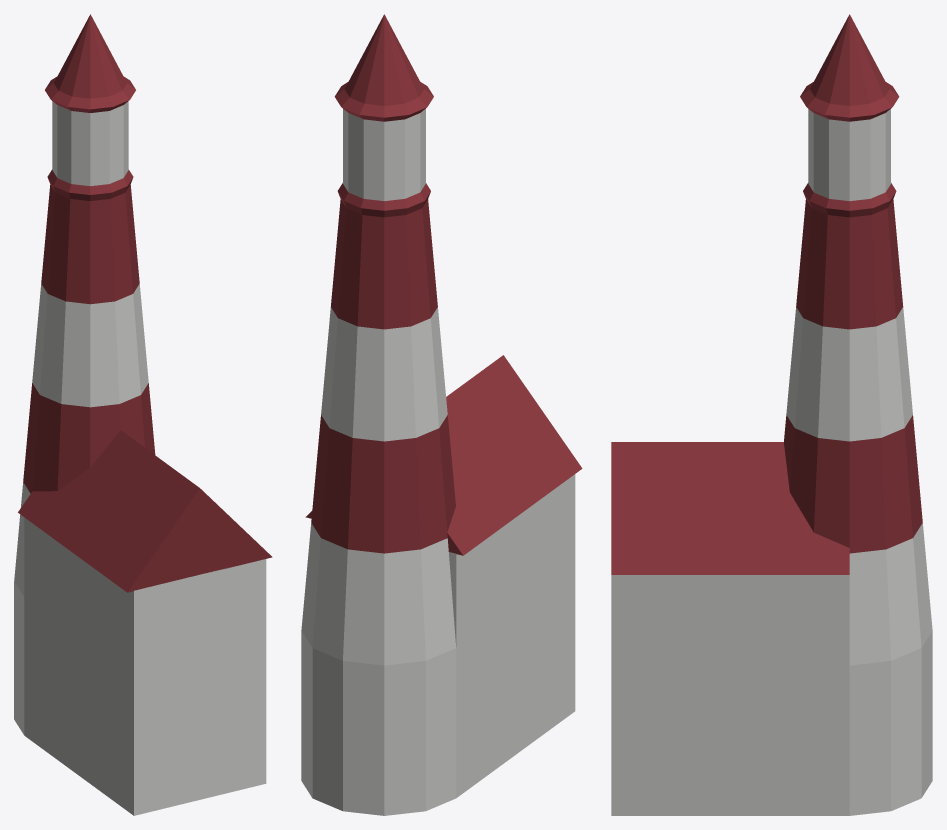
File: Lighthouse.glb
3 renders of one model, left to right at view 1: azimuth 30°, elevation 25°; view 2: azimuth 150°, elevation 25°; view 3: azimuth 270°, elevation 25°, orthographic. The views are drawn at different scales.
Parts seen in each view (by area): view 1: Cube, Cylinder, Roof; view 2: Cylinder, Cube, Roof; view 3: Cylinder, Cube, Roof.
Part boxes in pixels (x1=…): Cube: x1=24, y1=517, x2=266, y2=815; Cylinder: x1=14, y1=14, x2=155, y2=734; Roof: x1=18, y1=430, x2=272, y2=592; Cylinder: x1=301, y1=14, x2=456, y2=815; Cube: x1=449, y1=474, x2=575, y2=797; Roof: x1=305, y1=355, x2=582, y2=555; Cylinder: x1=784, y1=14, x2=932, y2=815; Cube: x1=611, y1=575, x2=849, y2=815; Roof: x1=611, y1=442, x2=849, y2=574.
Bounding box in the file's own units: 2.2 × 10.2 × 3.87.
